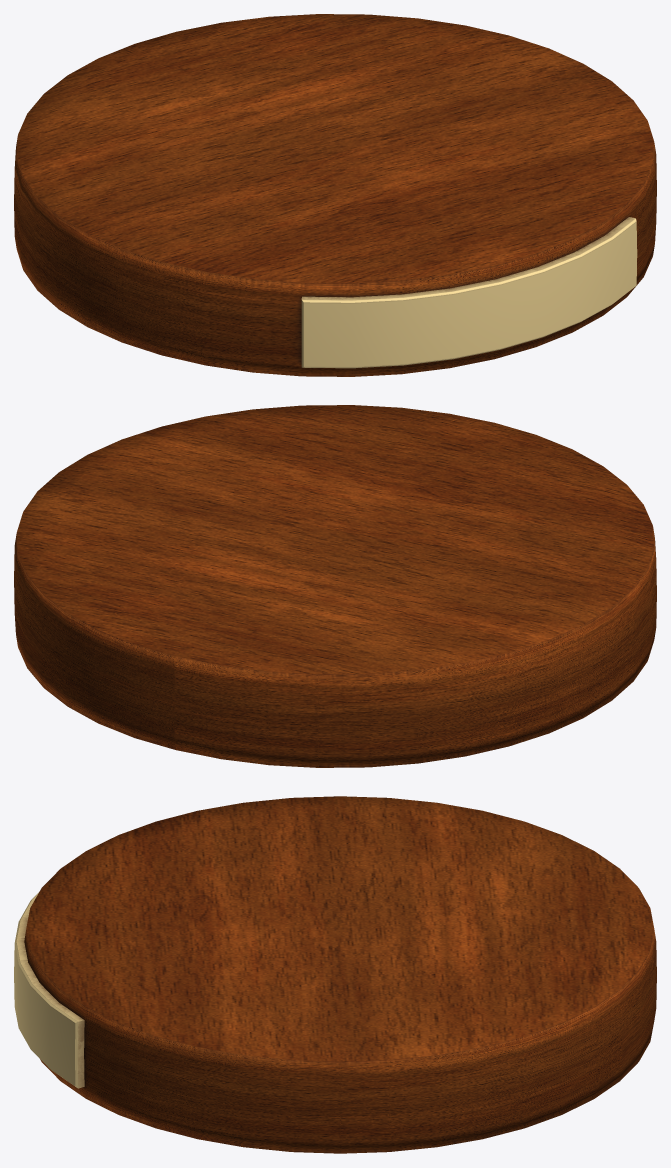
File: daiza.fbx
3 views of the same model, one above another, from view 1: azimuth 30°, elevation 25°; view 2: azimuth 150°, elevation 25°; view 3: azimuth 270°, elevation 25° (orthographic).
Parts seen in each view (by area): view 1: pCylinder31; view 2: pCylinder31; view 3: pCylinder31.
Boxes of the visible parts, x1,y1,x2,y2 form: pCylinder31: (14,14,656,376); pCylinder31: (14,405,656,767); pCylinder31: (14,796,656,1153).
Size of the model in its own units: 1.98 by 0.3333 by 2.01.
